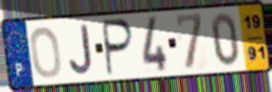0: (210, 11, 241, 69)
4: (140, 15, 170, 75)
7: (175, 11, 205, 71)
J: (67, 23, 95, 77)
O: (29, 24, 63, 80)
P: (102, 17, 136, 78)
